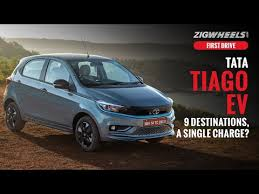Tiago: (5, 51, 177, 160)
